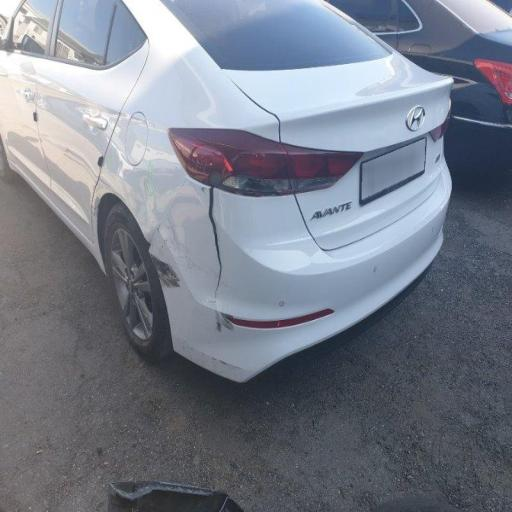broken: (138, 158, 248, 347)
dent: (26, 63, 126, 176)
